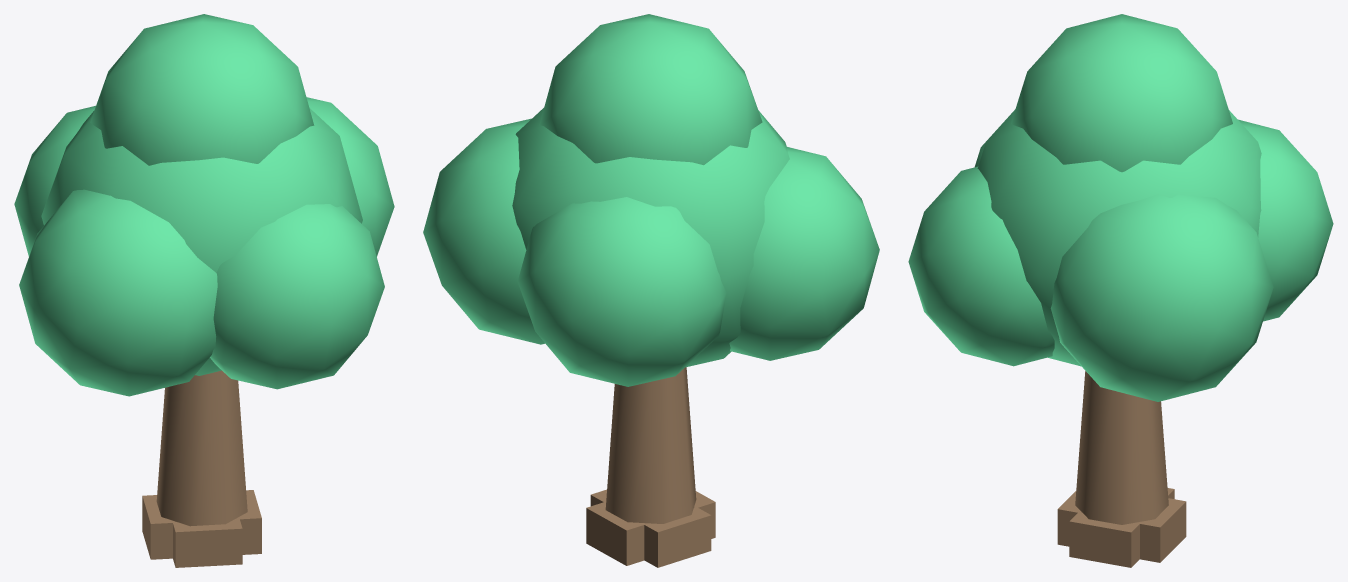
The model's file is tree_oak_round.glb.
3 views of the same model, side by side, from view 1: azimuth 30°, elevation 25°; view 2: azimuth 150°, elevation 25°; view 3: azimuth 270°, elevation 25° (orthographic).
Visible parts, largest first — view 1: tree_oak_round; view 2: tree_oak_round; view 3: tree_oak_round.
Part boxes in pixels (x1=…): tree_oak_round: x1=14, y1=14, x2=394, y2=567; tree_oak_round: x1=423, y1=14, x2=879, y2=567; tree_oak_round: x1=908, y1=14, x2=1333, y2=567.
Bounding box in the file's own units: 4.3 × 5.53 × 4.12.
